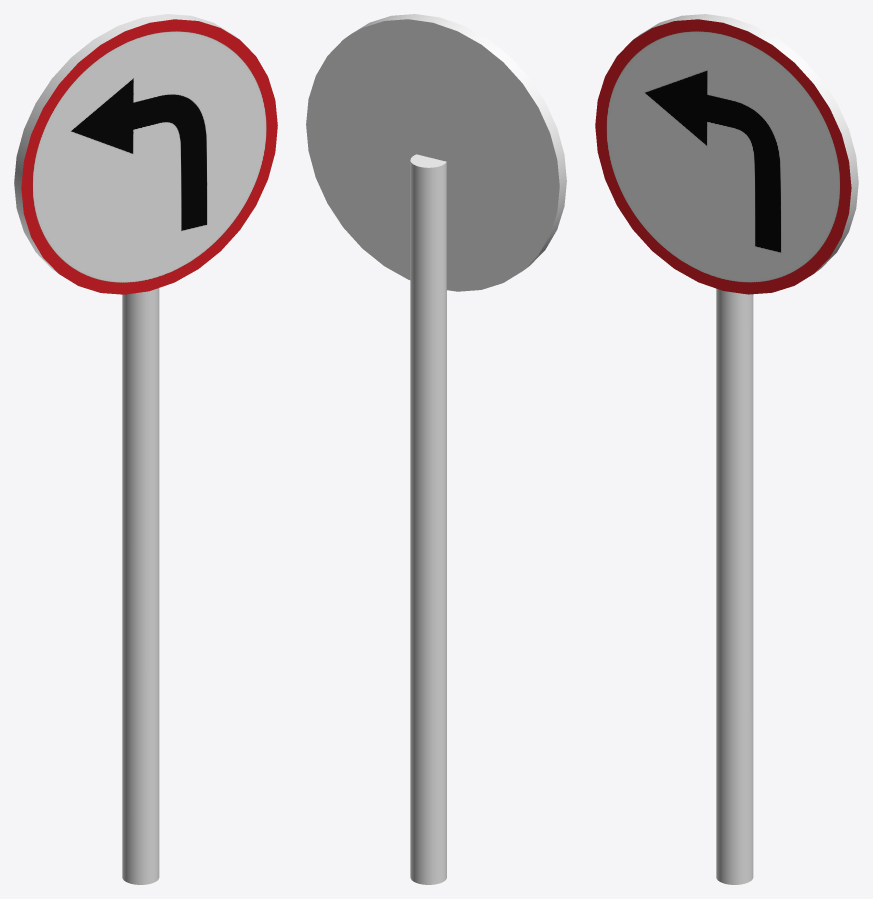
File: SOLO IZQUIERDA.fbx
The picture shows the model from 3 angles, left to right: view 1: azimuth 30°, elevation 25°; view 2: azimuth 150°, elevation 25°; view 3: azimuth 330°, elevation 25°; orthographic projection.
Parts seen in each view (by area): view 1: Cylinder.023; view 2: Cylinder.023; view 3: Cylinder.023.
Part boxes in pixels (bbox=[...]): Cylinder.023: bbox=[14, 14, 277, 884]; Cylinder.023: bbox=[306, 14, 566, 884]; Cylinder.023: bbox=[595, 14, 858, 884].
Size of the model in its own units: 80.06 by 257 by 10.47.
Materials: 2 (2 with a texture image).
